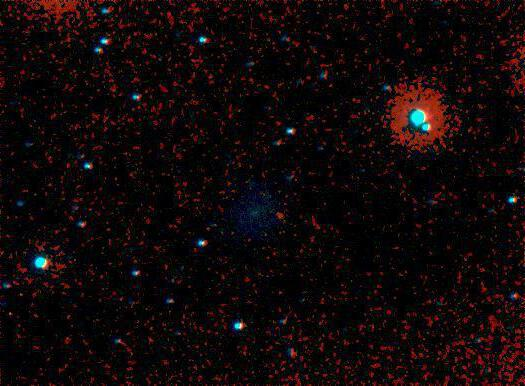star: (266, 201, 296, 231)
